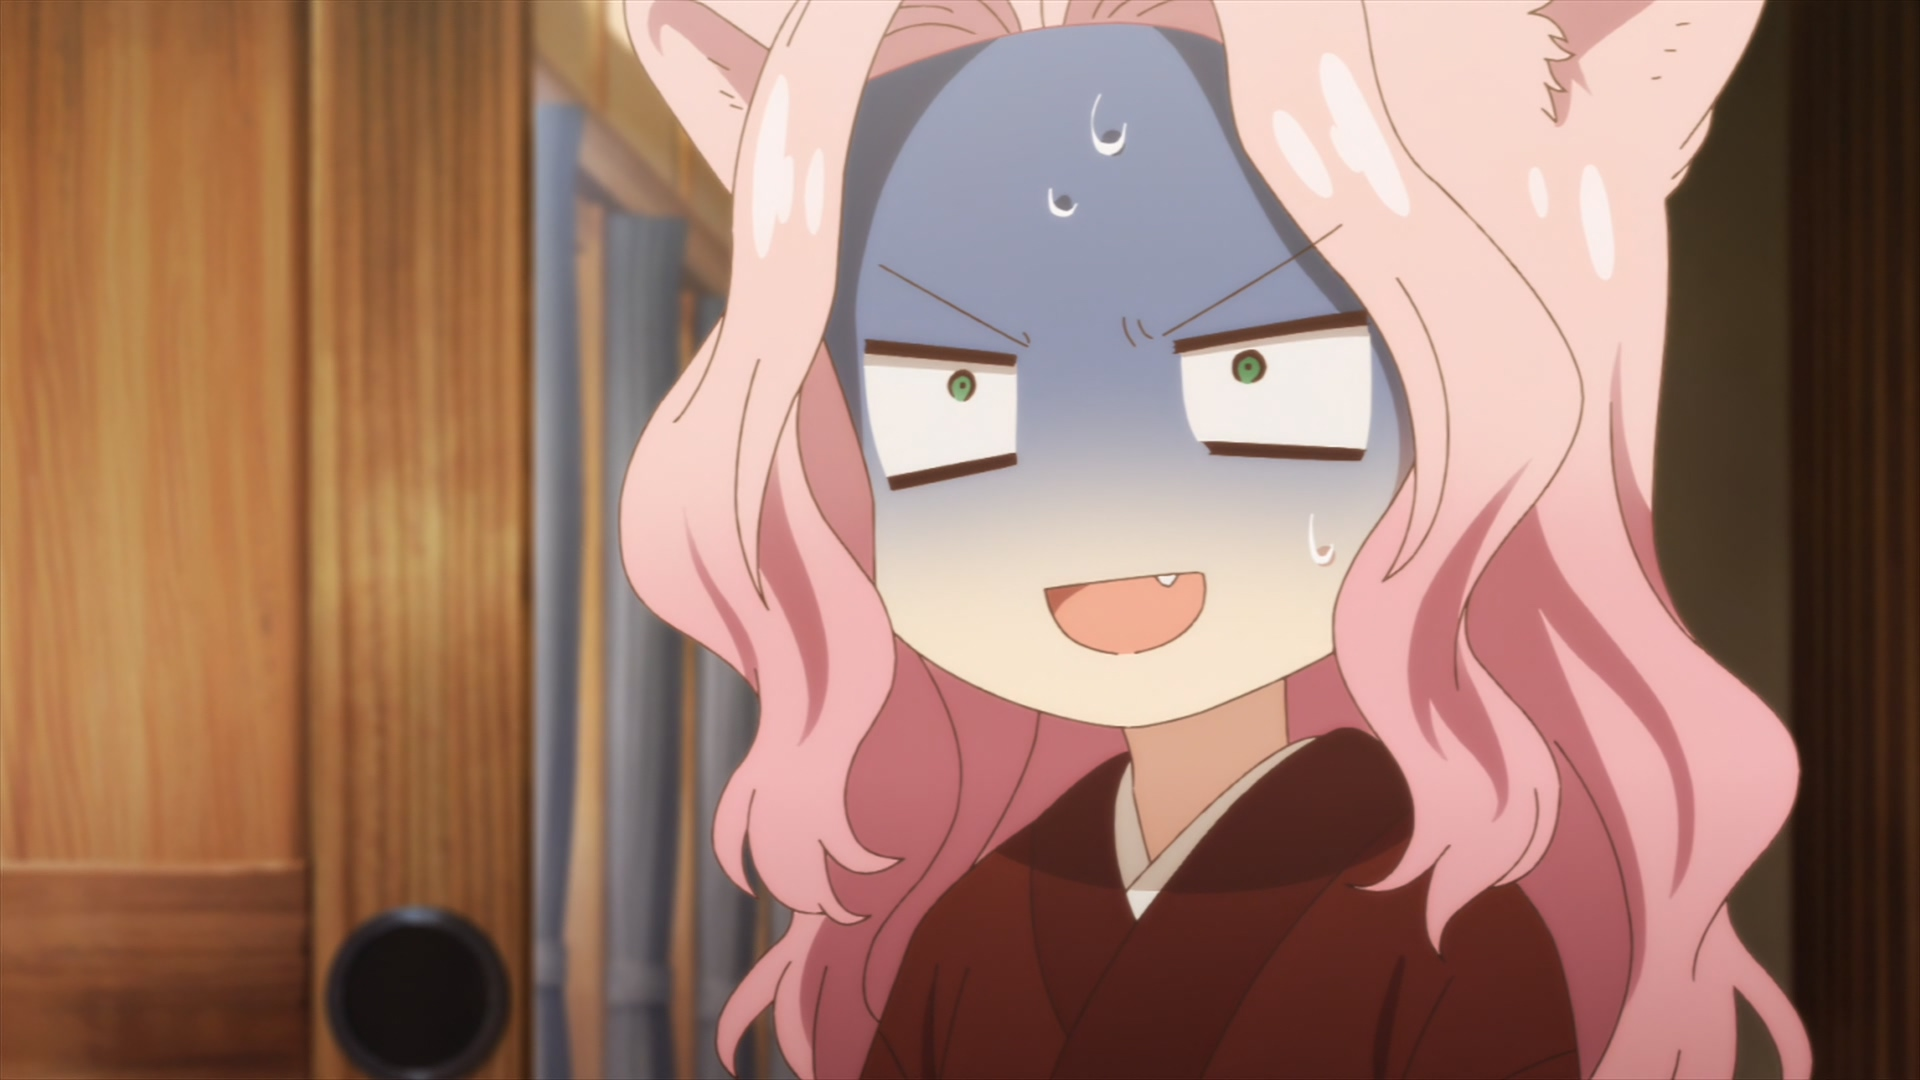莲: (618, 1, 1812, 1080)
